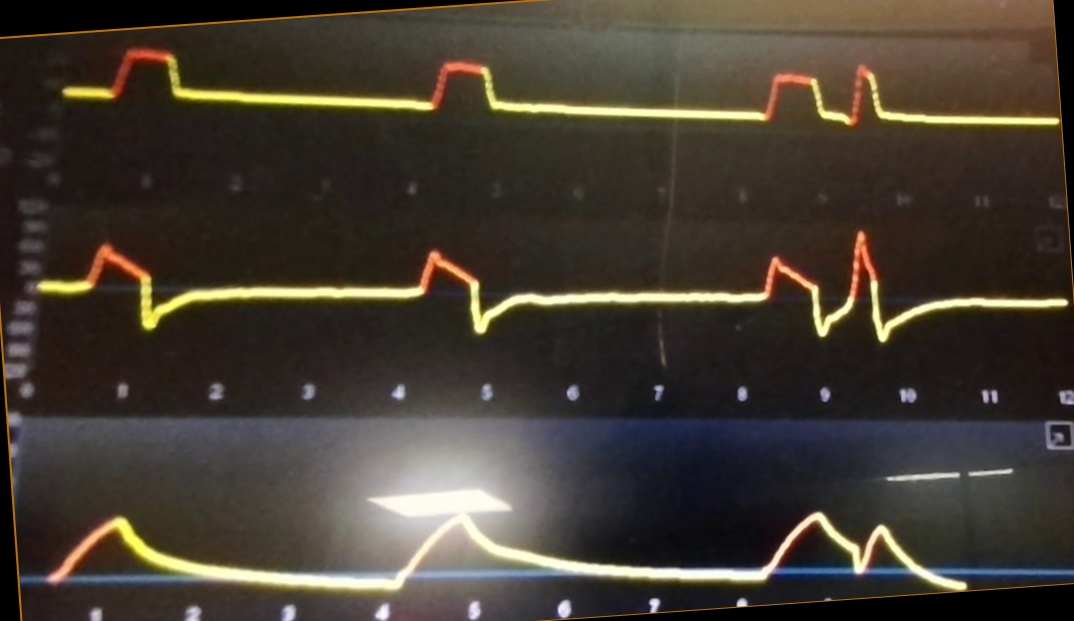Double_Triggering Flow: (86, 219, 1062, 367)
Double_Triggering Volume: (53, 483, 965, 596)
